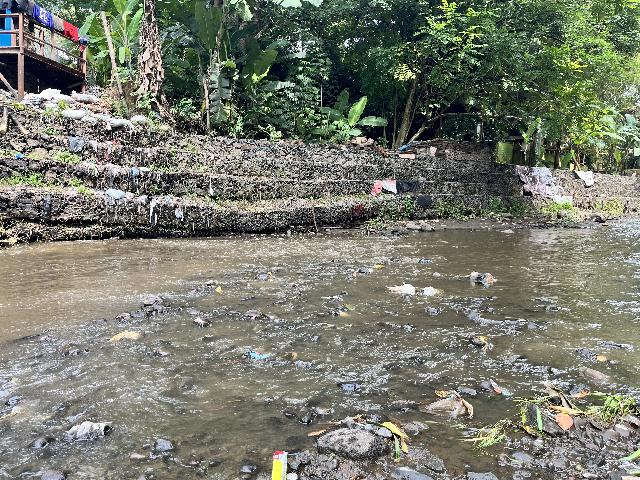Sampah Anorganik: (425, 388, 474, 420), (238, 345, 277, 363), (488, 375, 515, 400), (271, 448, 290, 480), (469, 269, 498, 285), (383, 284, 416, 295), (421, 287, 438, 297), (325, 295, 346, 303), (370, 263, 384, 269), (289, 282, 296, 286)
Sampah Organik: (456, 424, 537, 452), (366, 418, 415, 461), (522, 393, 586, 425), (590, 387, 635, 428), (107, 332, 141, 343), (1, 410, 22, 418), (307, 428, 326, 435), (113, 312, 131, 319), (213, 283, 224, 293), (596, 354, 607, 363), (318, 421, 341, 425), (343, 304, 356, 311), (475, 334, 487, 341), (250, 313, 260, 319), (10, 376, 18, 383), (386, 401, 410, 403), (602, 222, 611, 227), (289, 297, 301, 300), (189, 289, 197, 293), (353, 271, 358, 277), (267, 271, 273, 276), (484, 343, 487, 350)
